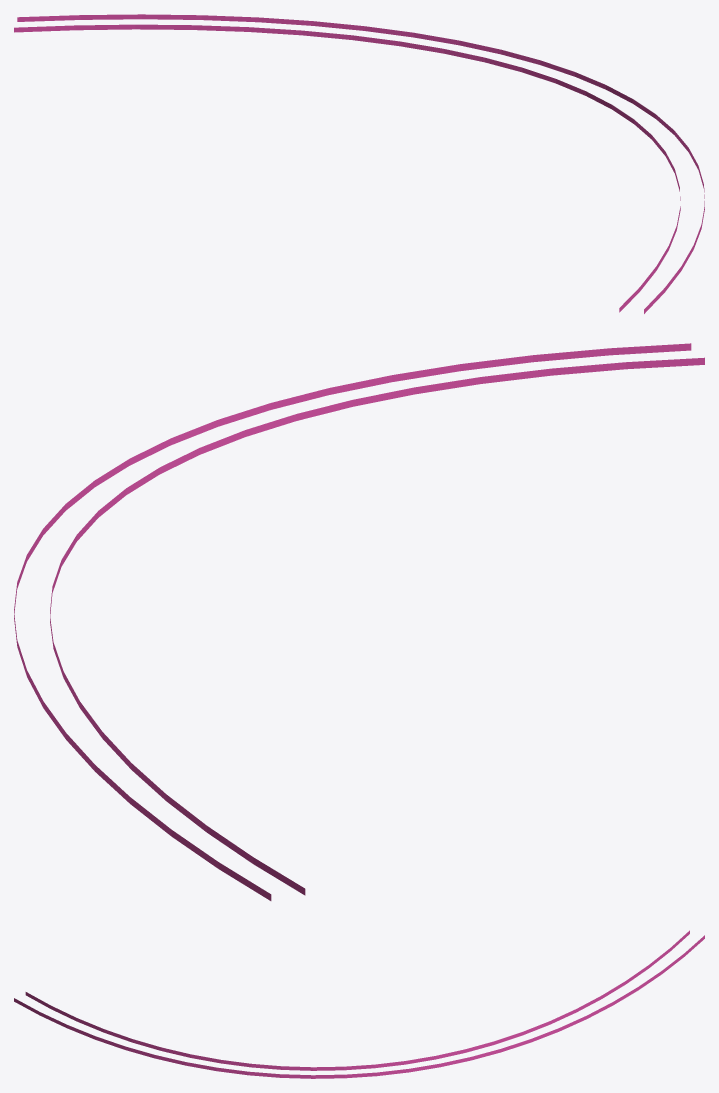
File: RailNeonRight.obj
3 renders of one model, top to bottom at view 1: azimuth 30°, elevation 25°; view 2: azimuth 150°, elevation 25°; view 3: azimuth 270°, elevation 25°, orthographic. The views are drawn at different scales.
Parts seen in each view (by area): view 1: RailNeonRight; view 2: RailNeonRight; view 3: RailNeonRight.
Part boxes in pixels (left/top/right/bottom): RailNeonRight: left=14, top=14, right=704, bottom=313; RailNeonRight: left=14, top=343, right=704, bottom=900; RailNeonRight: left=14, top=930, right=704, bottom=1078.
Bounding box in the file's own units: 5.09 × 0.06 × 10.25.
Materials: 1 (1 with a texture image).
